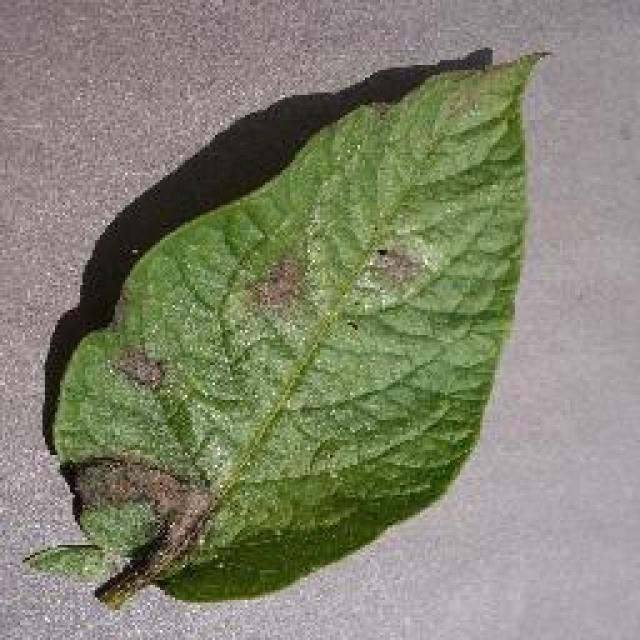late_blight: (28, 42, 552, 610)
